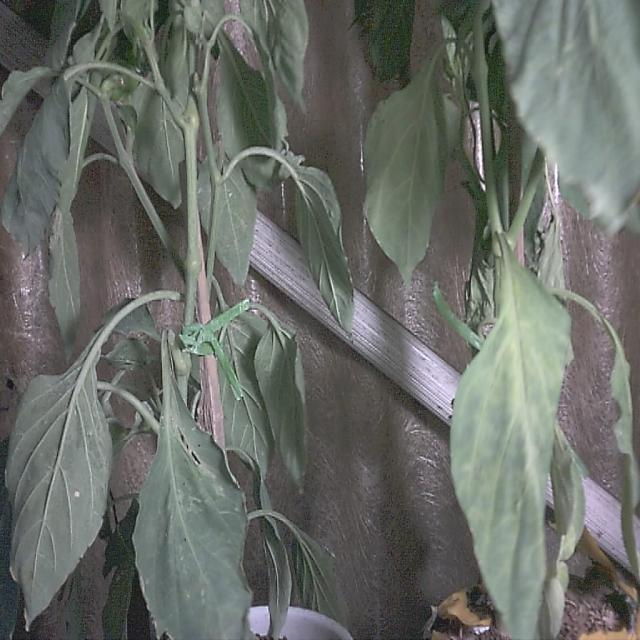Leaf: (448, 279, 573, 637), (4, 368, 113, 631), (134, 398, 250, 640), (360, 80, 459, 286), (2, 70, 72, 260)
